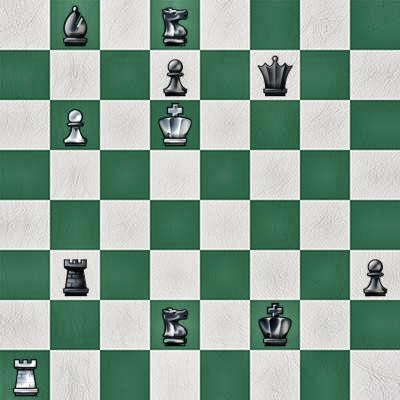black-bishop: (50, 0, 100, 50)
black-king: (250, 300, 300, 350)
black-knight: (150, 0, 200, 50), (150, 300, 200, 350)
black-pawn: (150, 50, 200, 100), (350, 250, 400, 300)
black-queen: (250, 50, 300, 100)
black-rook: (50, 250, 100, 300)
white-king: (150, 100, 200, 150)
white-pawn: (50, 100, 100, 150)
white-rook: (0, 350, 50, 400)
